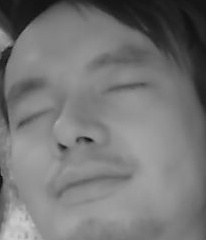blink: (103, 77, 145, 100), (16, 106, 52, 130)
mouth: (48, 157, 129, 206)
